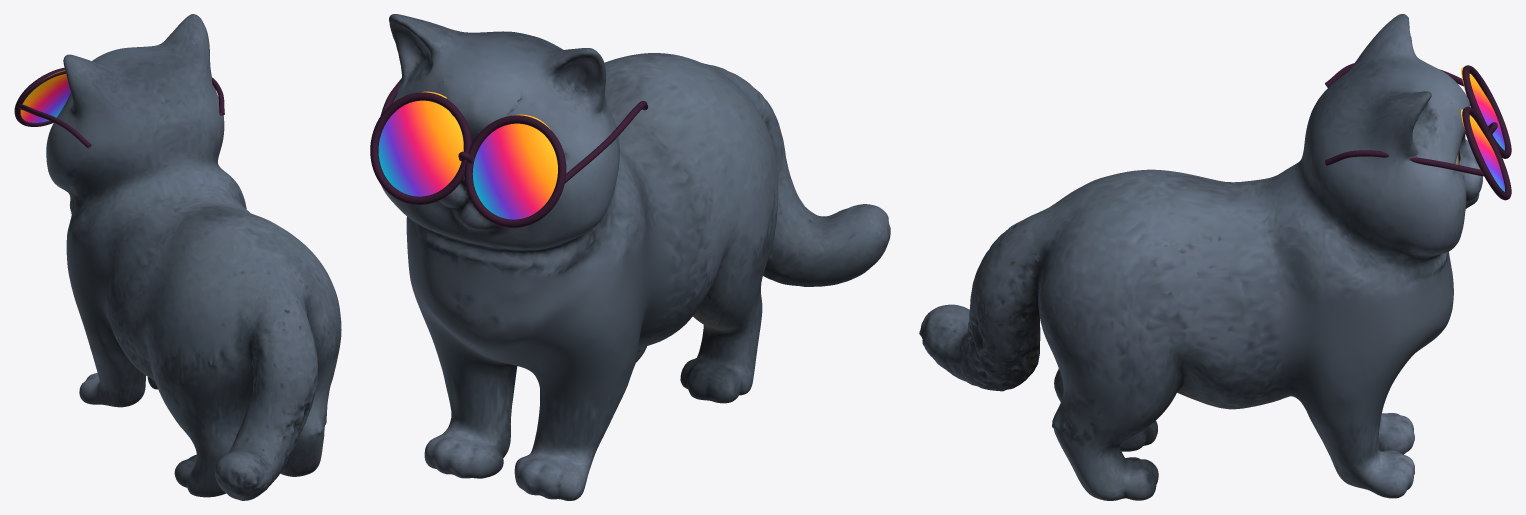
The model's file is alaska-3d.glb.
The picture shows the model from 3 angles, left to right: view 1: azimuth 30°, elevation 25°; view 2: azimuth 150°, elevation 25°; view 3: azimuth 270°, elevation 25°; orthographic projection. The views are drawn at different scales.
Visible parts, largest first — view 1: figure, glasses; view 2: figure, glasses; view 3: figure, glasses.
Part boxes in pixels (bbox=[...]): figure: bbox=[46, 14, 341, 500]; glasses: bbox=[14, 67, 224, 148]; figure: bbox=[381, 14, 890, 500]; glasses: bbox=[370, 78, 647, 227]; figure: bbox=[919, 14, 1482, 500]; glasses: bbox=[1325, 63, 1511, 200].
Bounding box in the file's own units: 0.6948 × 1.25 × 1.6.
2 materials, 1 textured.
